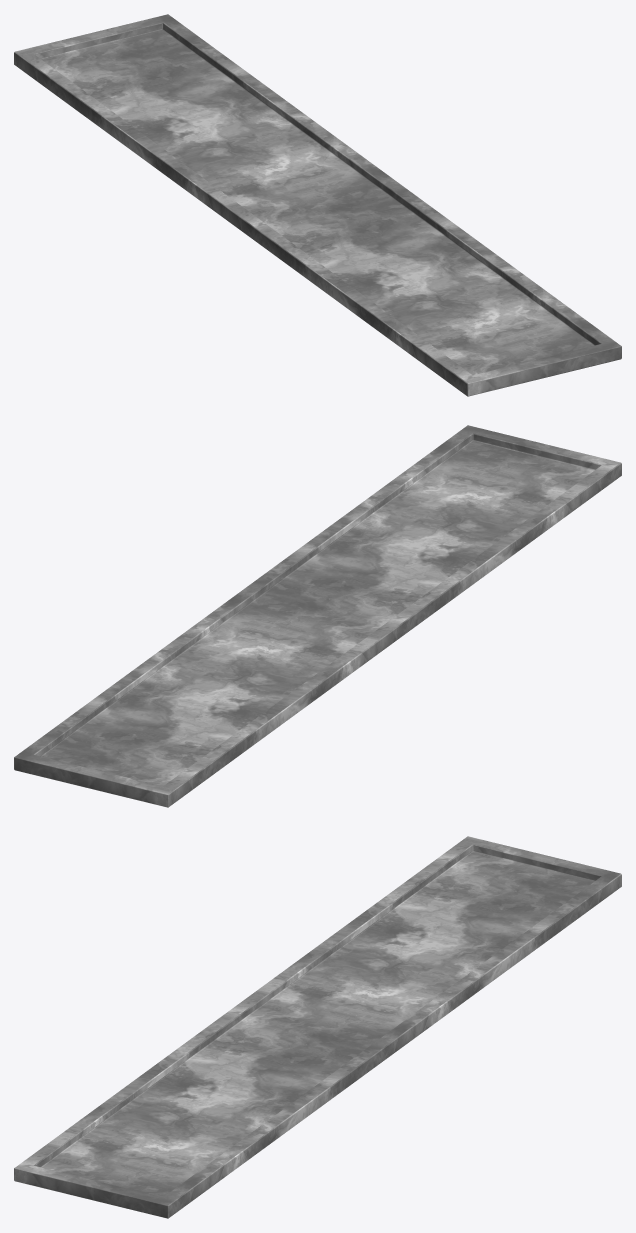
Rendered from SM_garden_medium.fbx.
3 views of the same model, one above another, from view 1: azimuth 30°, elevation 25°; view 2: azimuth 150°, elevation 25°; view 3: azimuth 330°, elevation 25° (orthographic).
Parts seen in each view (by area): view 1: SM_garden_medium; view 2: SM_garden_medium; view 3: SM_garden_medium.
Part boxes in pixels (left/top/right/bottom): SM_garden_medium: left=14, top=14, right=621, bottom=396; SM_garden_medium: left=14, top=425, right=621, bottom=807; SM_garden_medium: left=14, top=836, right=621, bottom=1218.
Bounding box in the file's own units: 171 × 865 × 14.32.
Materials: 2 (2 with a texture image).
